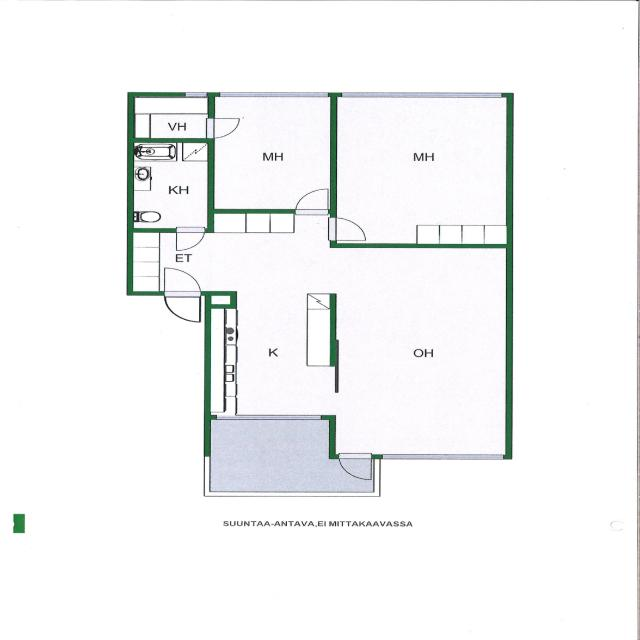door: (164, 291, 200, 321), (164, 266, 200, 296), (296, 186, 328, 214), (339, 455, 371, 482), (330, 218, 368, 240), (176, 228, 204, 252), (208, 118, 241, 137)
